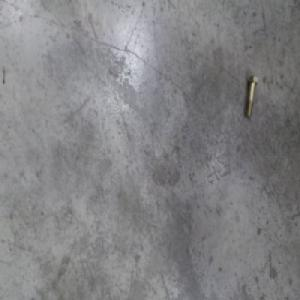Bolt: (242, 69, 255, 114)
